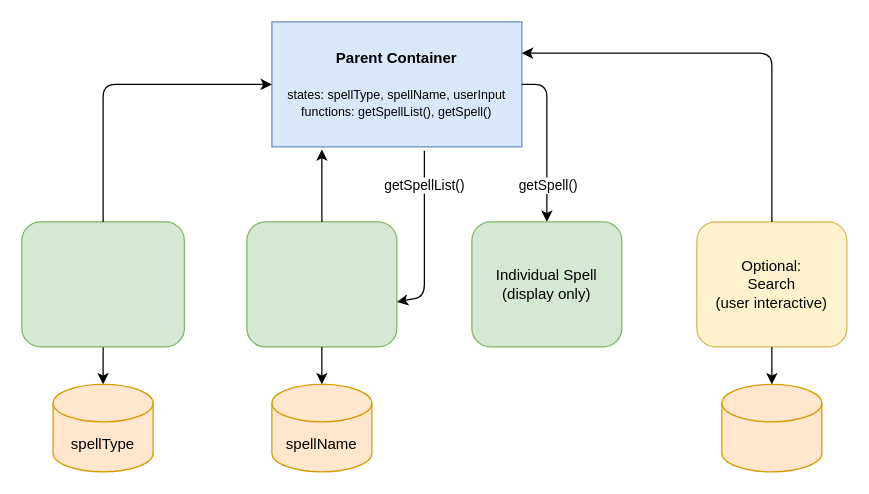
Image size: 869x494. Some labels were removed from this diagram. The centre of each missing label's shape, as x and y in pixels:
"Spell List (user interactive)" goes at pixel 321 284.
"Spell Types (user interactive)" goes at pixel 102 284.
"userInput" goes at pixel 771 427.
